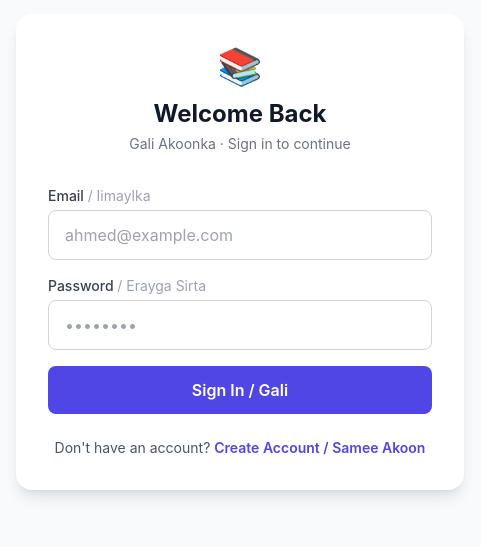
Test: Login mode › shows server error message on login failure
Type "user@example.com" into the field with placeholder "ahmed@example.com" at (240, 235), box [48,210,432,260]
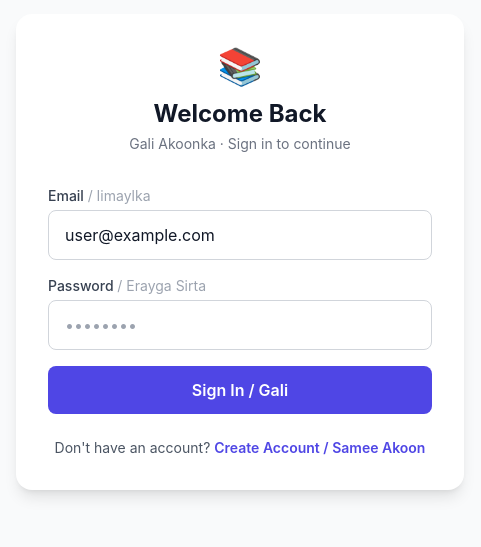
Type "wrongpass" into the password field with placeholder "••••••••" at (240, 325), box [48,300,432,350]
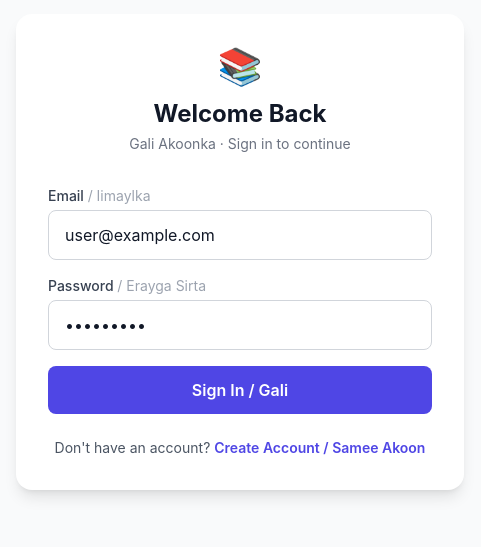
Click the button "Sign In / Gali" at (240, 390), box [48,366,432,414]
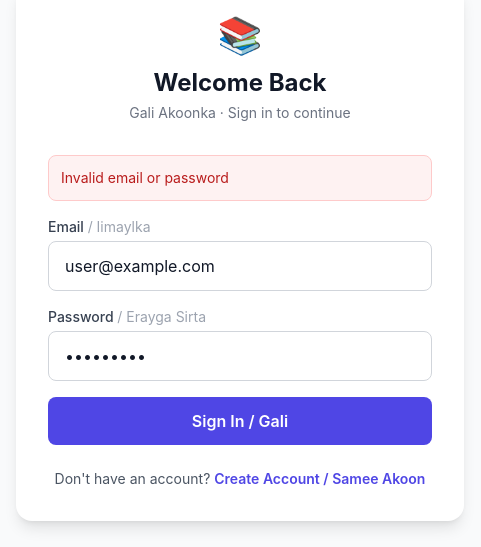
Now the text "Invalid email or password" is shown, box [48,155,432,201]
